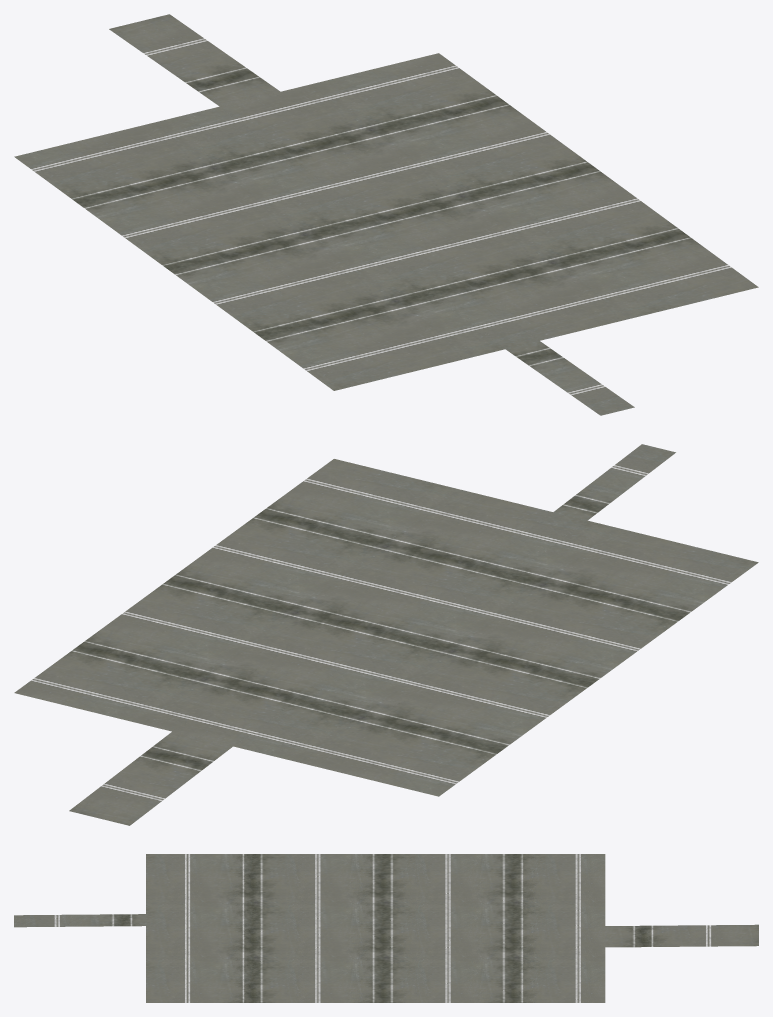
3 views of the same model, one above another, from view 1: azimuth 30°, elevation 25°; view 2: azimuth 150°, elevation 25°; view 3: azimuth 270°, elevation 25° (orthographic). The views are drawn at different scales.
Parts seen in each view (by area): view 1: SM_HK_02_06; view 2: SM_HK_02_06; view 3: SM_HK_02_06.
Boxes of the visible parts, box(x1,y1,x2,y2) form: SM_HK_02_06: box(14, 14, 758, 415); SM_HK_02_06: box(14, 444, 758, 825); SM_HK_02_06: box(14, 854, 758, 1002).
Size of the model in its own units: 3792 by 0 by 8026.
